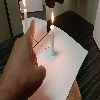fire: (52, 12, 55, 26)
